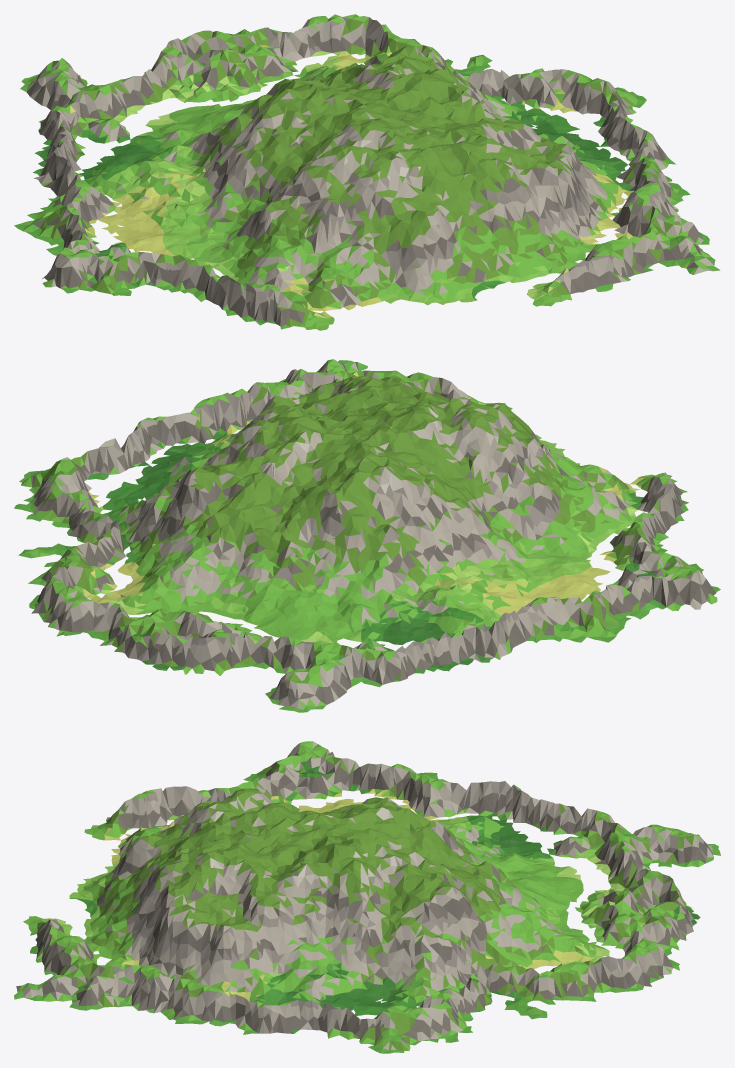
File: Isl-rocky1-Relief.fbx
3 views of the same model, one above another, from view 1: azimuth 30°, elevation 25°; view 2: azimuth 150°, elevation 25°; view 3: azimuth 270°, elevation 25° (orthographic). The views are drawn at different scales.
Visible parts, largest first — view 1: Isl-rocky1-Relief-c11, Isl-rocky1-Relief-c12, Isl-rocky1-Relief-c21, Isl-rocky1-Relief-c22, Isl-rocky1-Relief-c01, Isl-rocky1-Relief-c13; view 2: Isl-rocky1-Relief-c12, Isl-rocky1-Relief-c22, Isl-rocky1-Relief-c11, Isl-rocky1-Relief-c21, Isl-rocky1-Relief-c13, Isl-rocky1-Relief-c23, Isl-rocky1-Relief-c02; view 3: Isl-rocky1-Relief-c22, Isl-rocky1-Relief-c21, Isl-rocky1-Relief-c12, Isl-rocky1-Relief-c11, Isl-rocky1-Relief-c13, Isl-rocky1-Relief-c23.
Boxes of the visible parts, bbox=[...] form: Isl-rocky1-Relief-c11: bbox=[67, 108, 541, 330]; Isl-rocky1-Relief-c12: bbox=[14, 33, 393, 255]; Isl-rocky1-Relief-c21: bbox=[394, 91, 720, 306]; Isl-rocky1-Relief-c22: bbox=[205, 14, 646, 148]; Isl-rocky1-Relief-c01: bbox=[42, 253, 82, 293]; Isl-rocky1-Relief-c13: bbox=[20, 31, 205, 98]; Isl-rocky1-Relief-c12: bbox=[185, 428, 689, 698]; Isl-rocky1-Relief-c22: bbox=[14, 411, 355, 646]; Isl-rocky1-Relief-c11: bbox=[357, 392, 703, 579]; Isl-rocky1-Relief-c21: bbox=[121, 359, 507, 467]; Isl-rocky1-Relief-c13: bbox=[152, 634, 337, 712]; Isl-rocky1-Relief-c23: bbox=[57, 625, 160, 664]; Isl-rocky1-Relief-c02: bbox=[674, 574, 707, 610]; Isl-rocky1-Relief-c22: bbox=[311, 835, 679, 1053]; Isl-rocky1-Relief-c21: bbox=[14, 834, 314, 1034]; Isl-rocky1-Relief-c12: bbox=[311, 744, 678, 918]; Isl-rocky1-Relief-c11: bbox=[29, 742, 314, 919]; Isl-rocky1-Relief-c13: bbox=[670, 829, 720, 919]; Isl-rocky1-Relief-c23: bbox=[670, 897, 696, 970].
Bounding box in the file's own units: 102 × 15.46 × 102.
